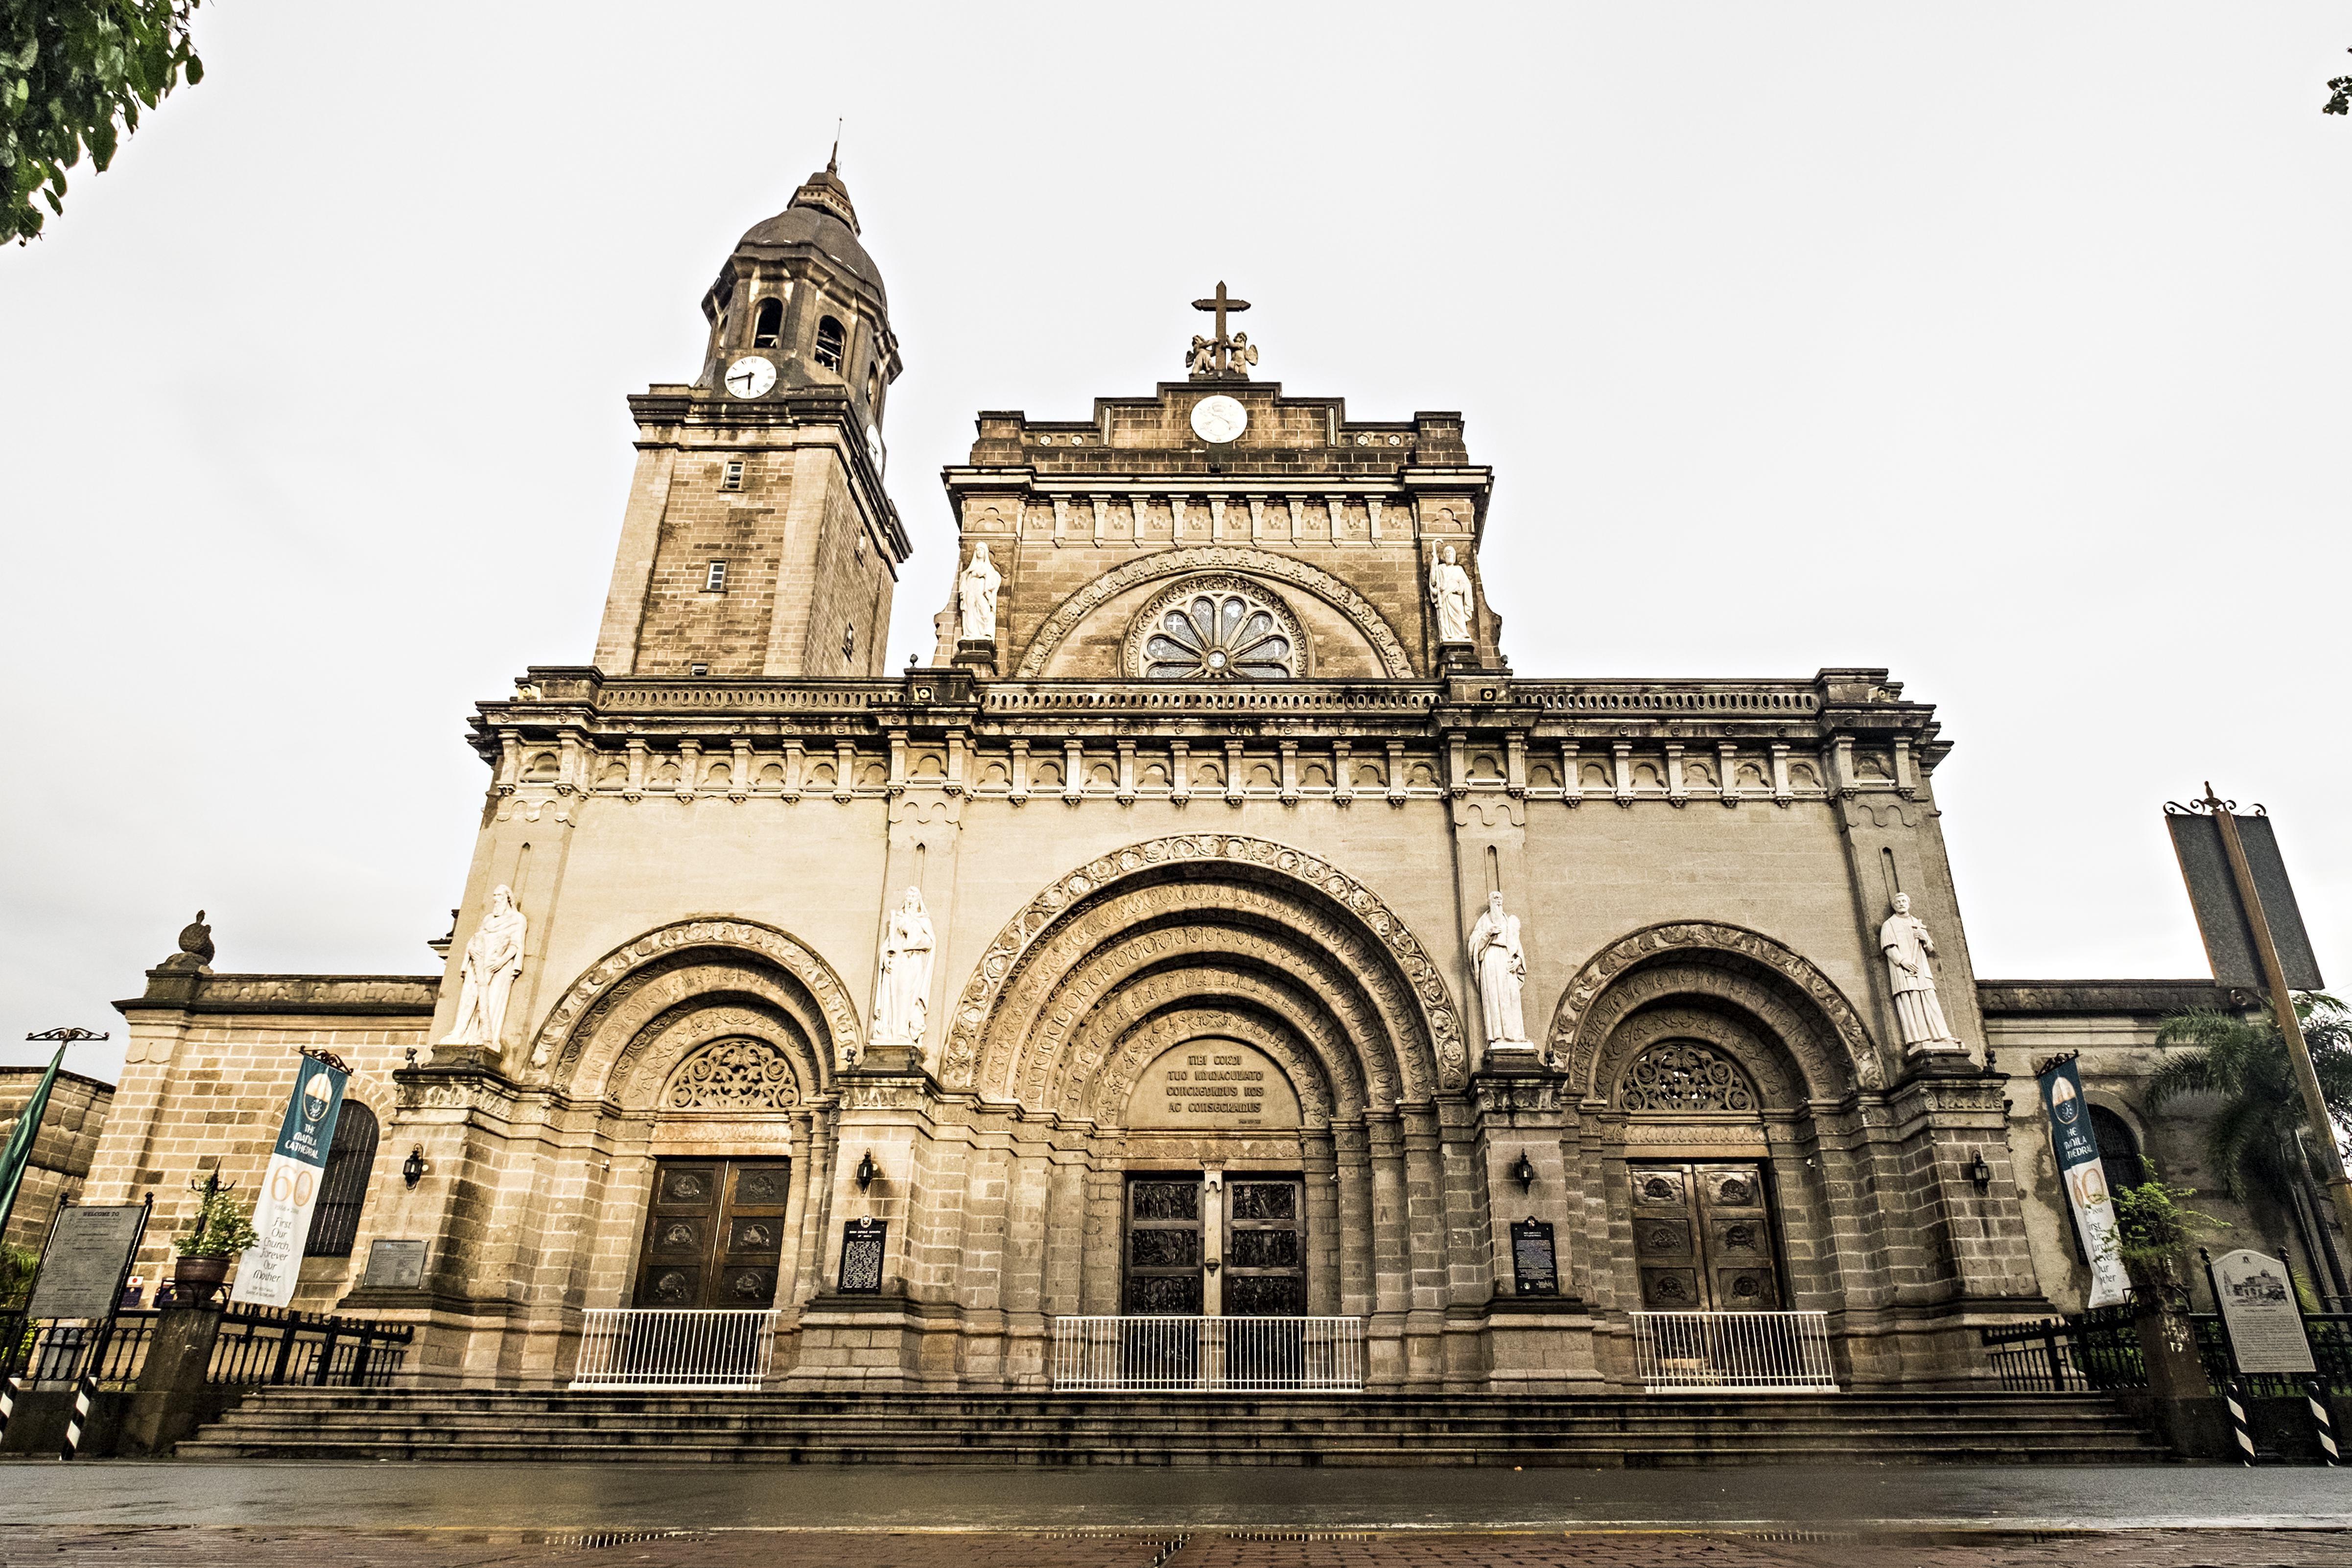manila_cathedral_church_intramuros_manila: (413, 110, 2060, 1400)
